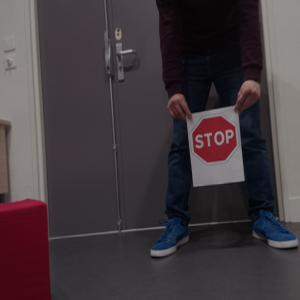stop: (191, 114, 238, 163)
